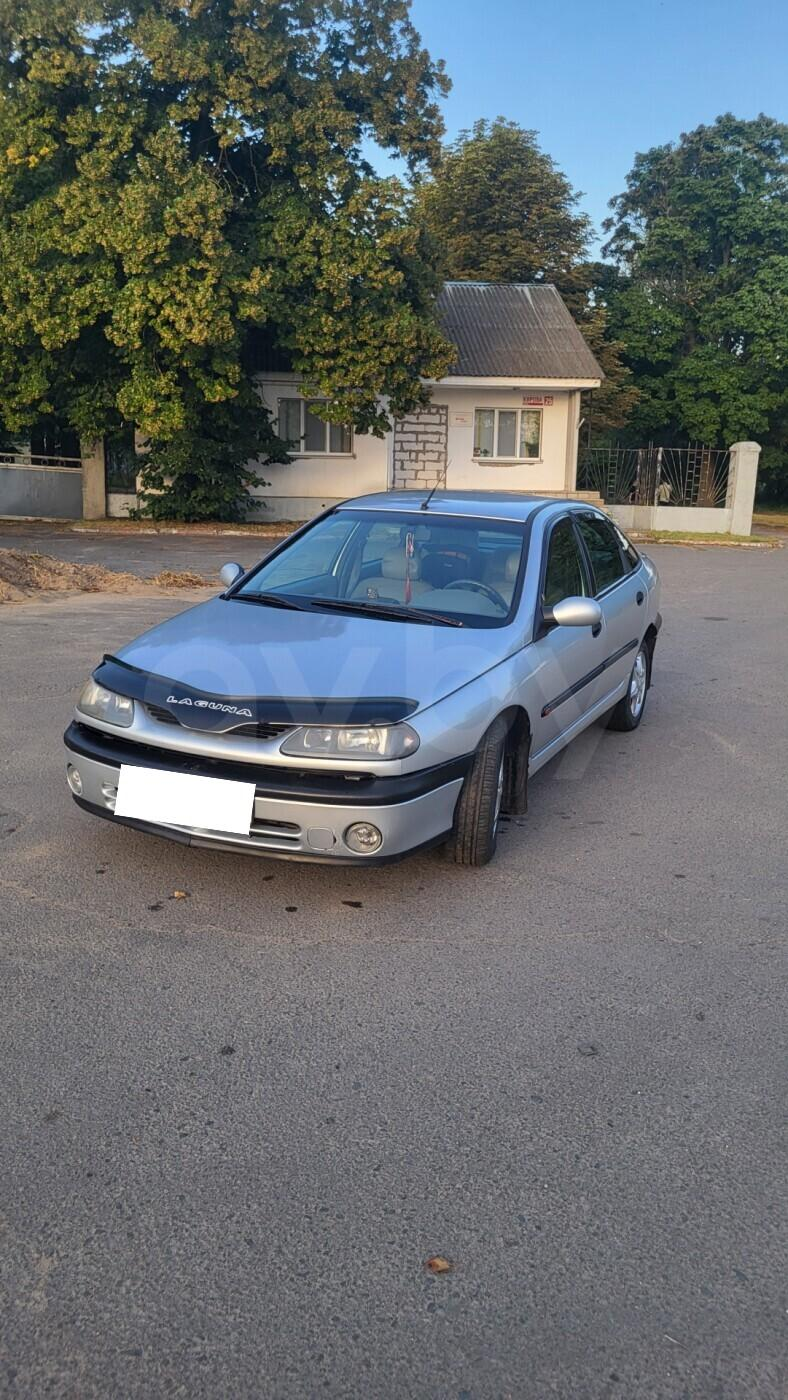Laguna_1998-2001: (64, 488, 672, 872)
